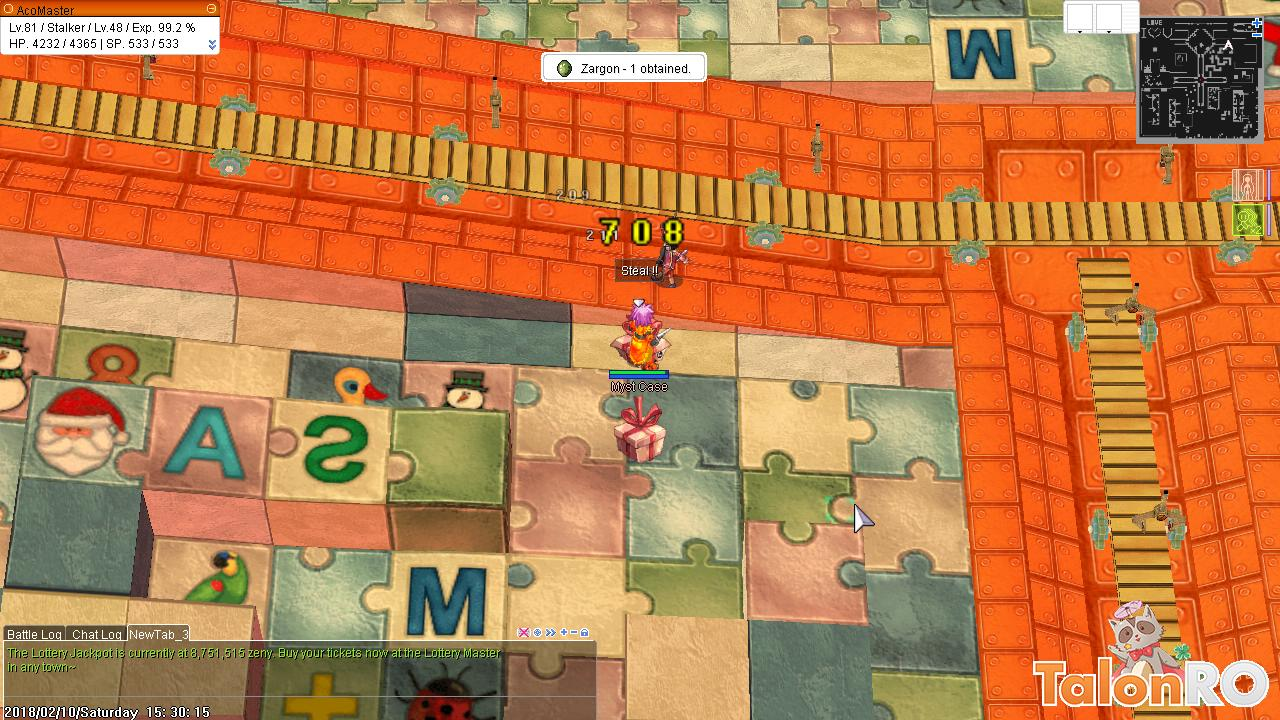loot: (611, 391, 669, 465)
mob: (650, 214, 692, 295)
